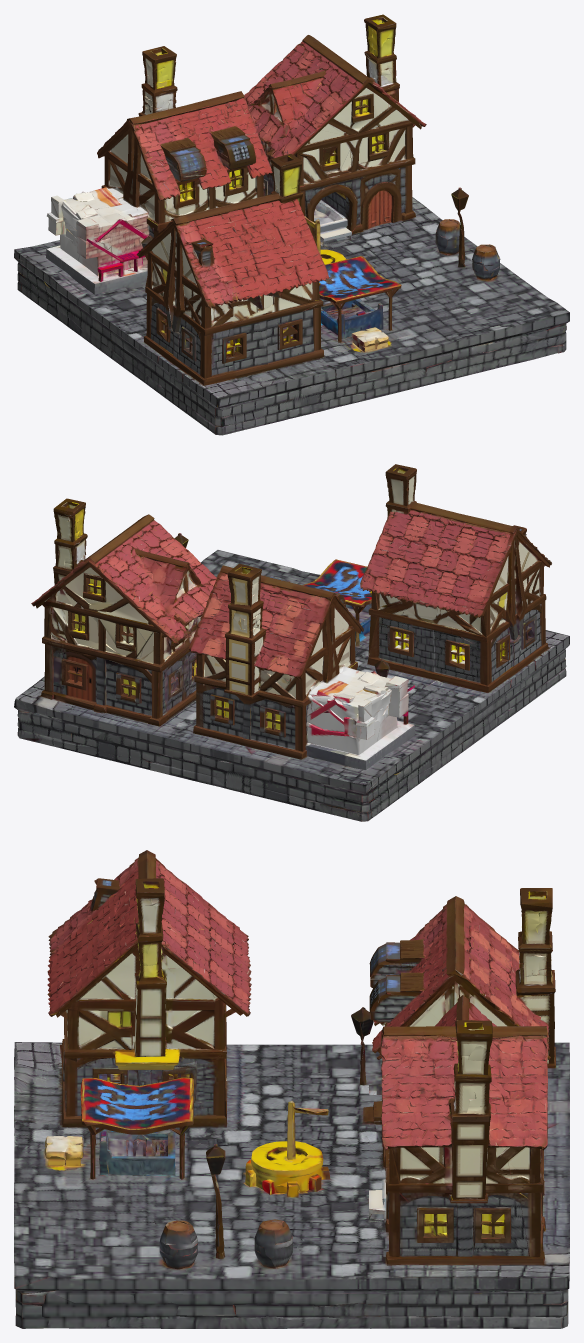
The model's file is town-square.glb.
3 views of the same model, one above another, from view 1: azimuth 30°, elevation 25°; view 2: azimuth 150°, elevation 25°; view 3: azimuth 270°, elevation 25° (orthographic). The views are drawn at different scales.
Size of the model in its own units: 1.9 by 1.09 by 1.9.
Materials: 1 (1 with a texture image).
